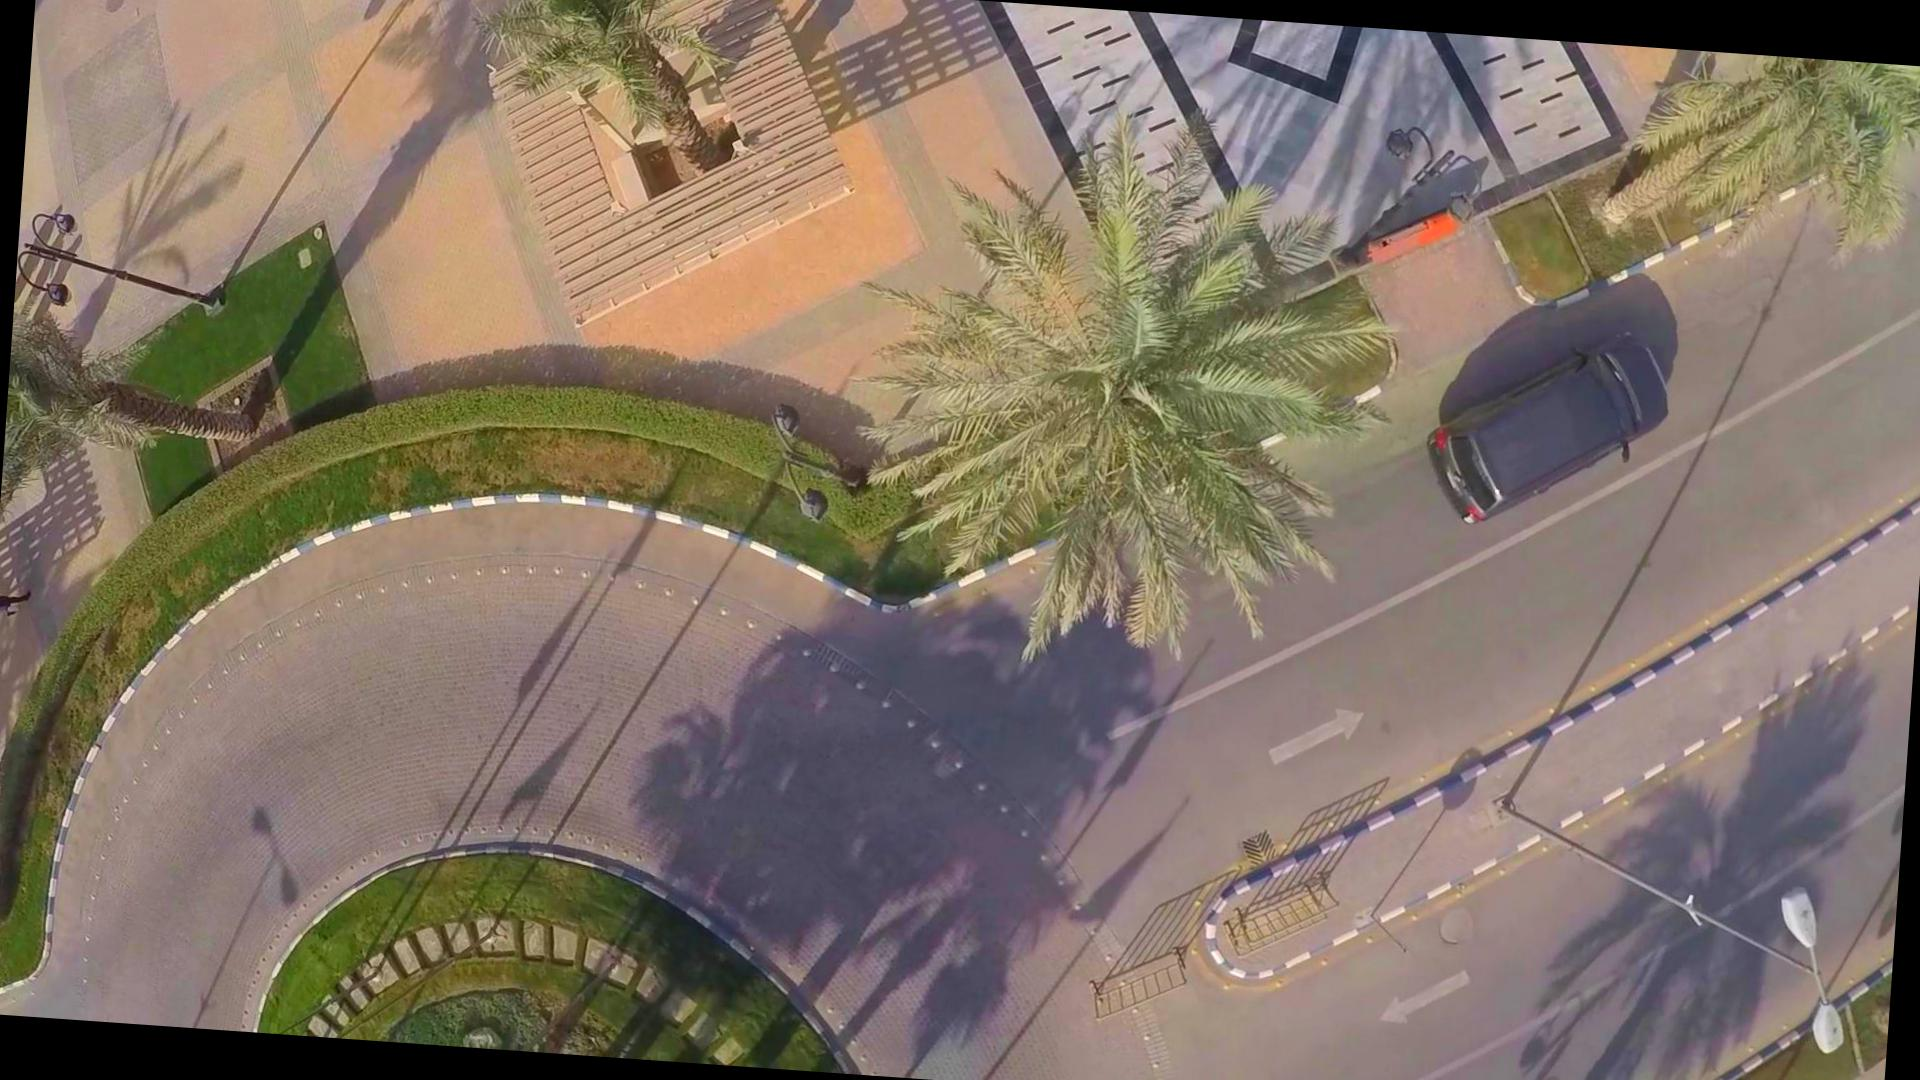vehicle: (1433, 309, 1677, 541)
